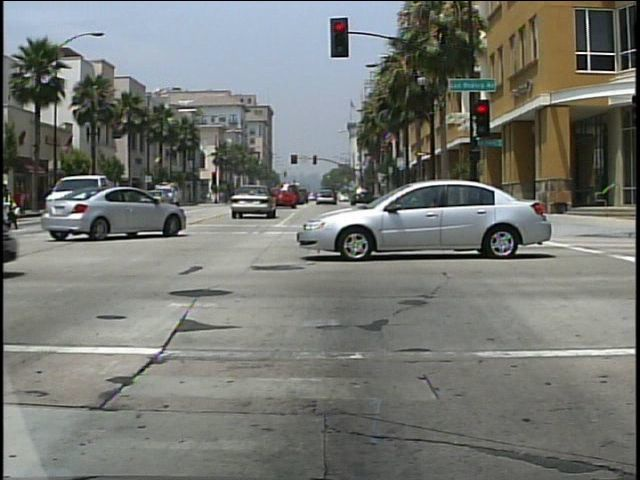person: (3, 173, 25, 232)
